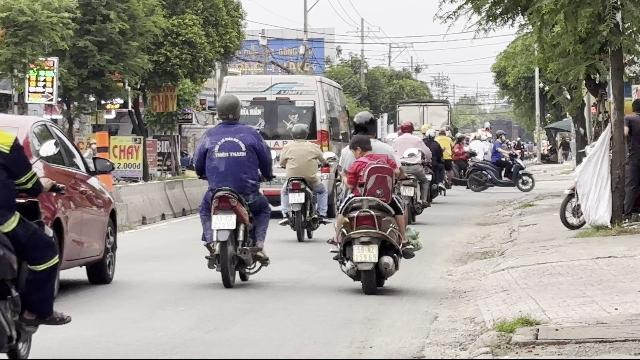helmet: (214, 93, 242, 122), (351, 112, 377, 136), (290, 122, 308, 139)
licenseplate: (354, 246, 378, 262), (212, 215, 236, 229), (288, 193, 304, 204)
motorcyclist: (327, 109, 419, 294), (191, 93, 275, 287), (277, 122, 329, 240)
nohelmet: (347, 134, 373, 158)
